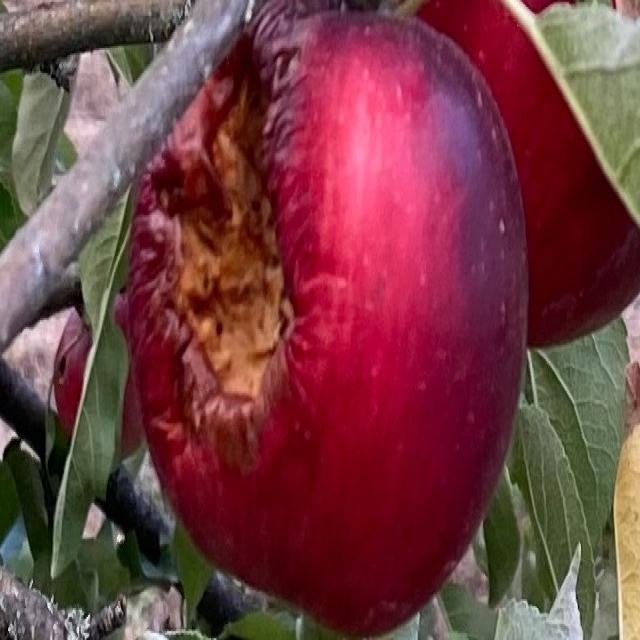100-_ripeness: (133, 9, 529, 636), (417, 0, 640, 350), (56, 286, 144, 459)
